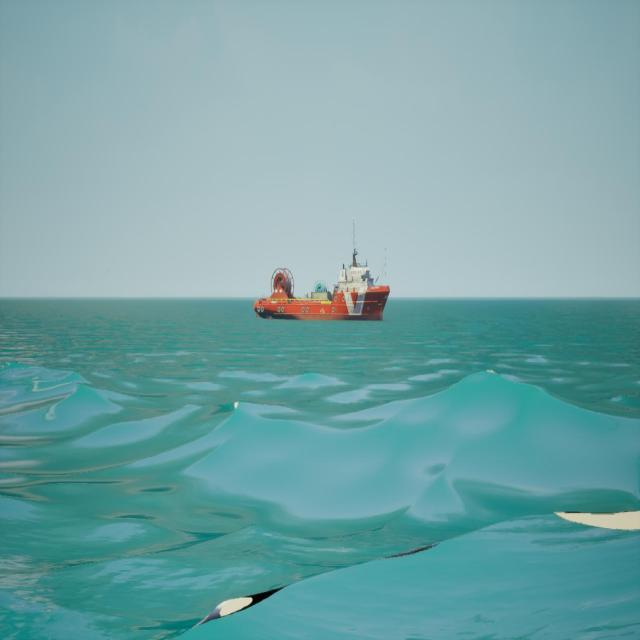tug boat: (256, 218, 392, 324)
